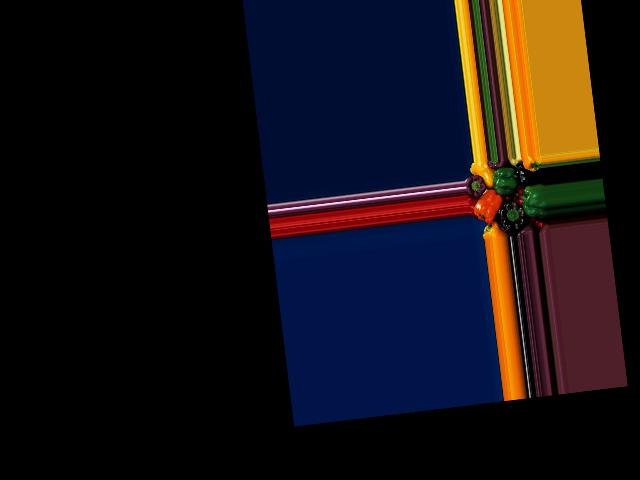bell_pepper: (523, 184, 548, 220)
